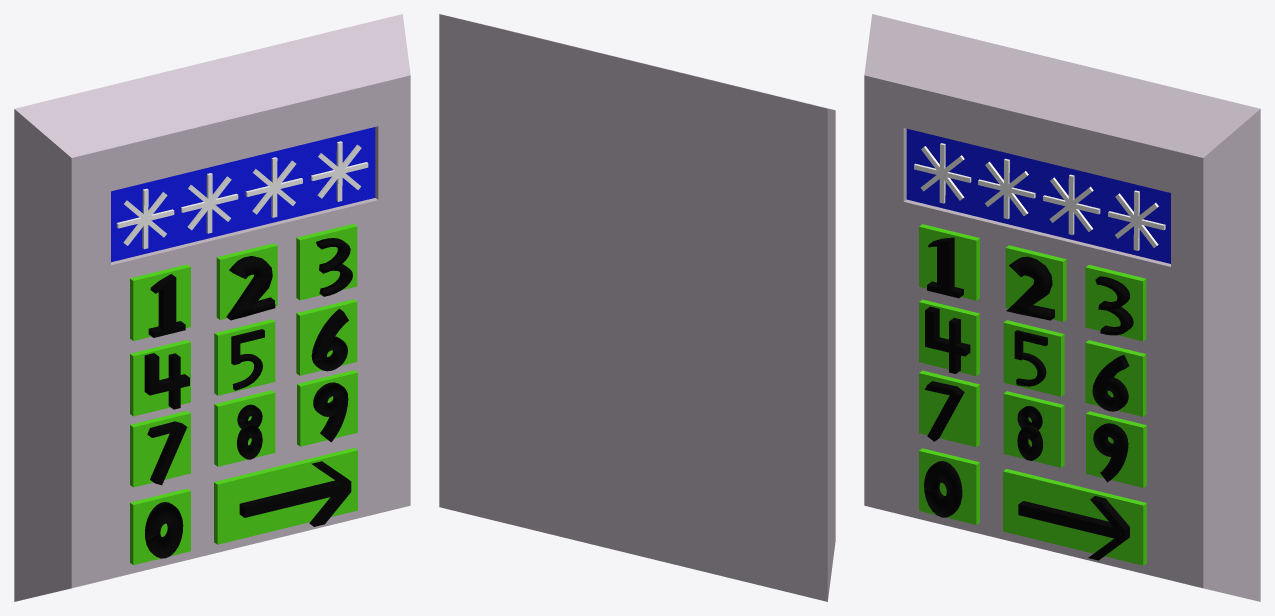
The model's file is fixed_keypad_6.fbx.
The picture shows the model from 3 angles, left to right: view 1: azimuth 30°, elevation 25°; view 2: azimuth 150°, elevation 25°; view 3: azimuth 330°, elevation 25°; orthographic projection.
Visible parts, largest first — view 1: Cube.010, Cube.019, Cube.020, Cube.021, Cube.022; view 2: Cube.010; view 3: Cube.010, Cube.021, Cube.019, Cube.020, Cube.022.
Part boxes in pixels (box(x1,y1,x2,y2)): Cube.010: box(14, 14, 410, 601); Cube.019: box(116, 188, 174, 249); Cube.020: box(181, 173, 238, 233); Cube.021: box(245, 157, 302, 217); Cube.022: box(311, 141, 368, 201); Cube.010: box(439, 14, 835, 601); Cube.010: box(864, 14, 1260, 601); Cube.021: box(1043, 174, 1100, 234); Cube.019: box(914, 143, 971, 203); Cube.020: box(978, 158, 1035, 219); Cube.022: box(1108, 190, 1165, 250).
Bounding box in the file's own units: 78.3 × 94.99 × 14.94.
